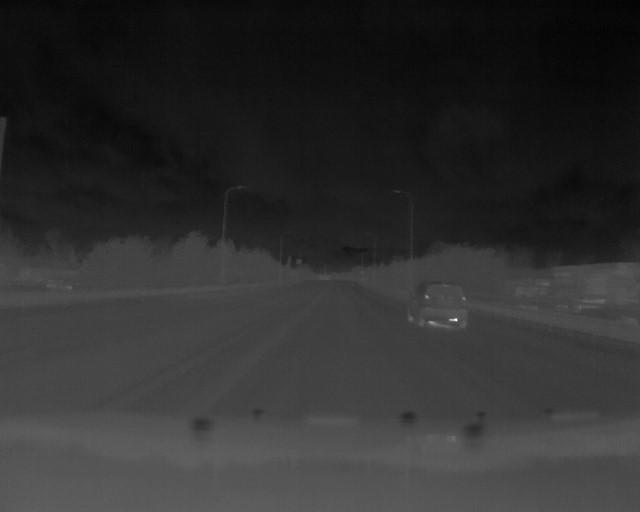car: (407, 281, 471, 328)
